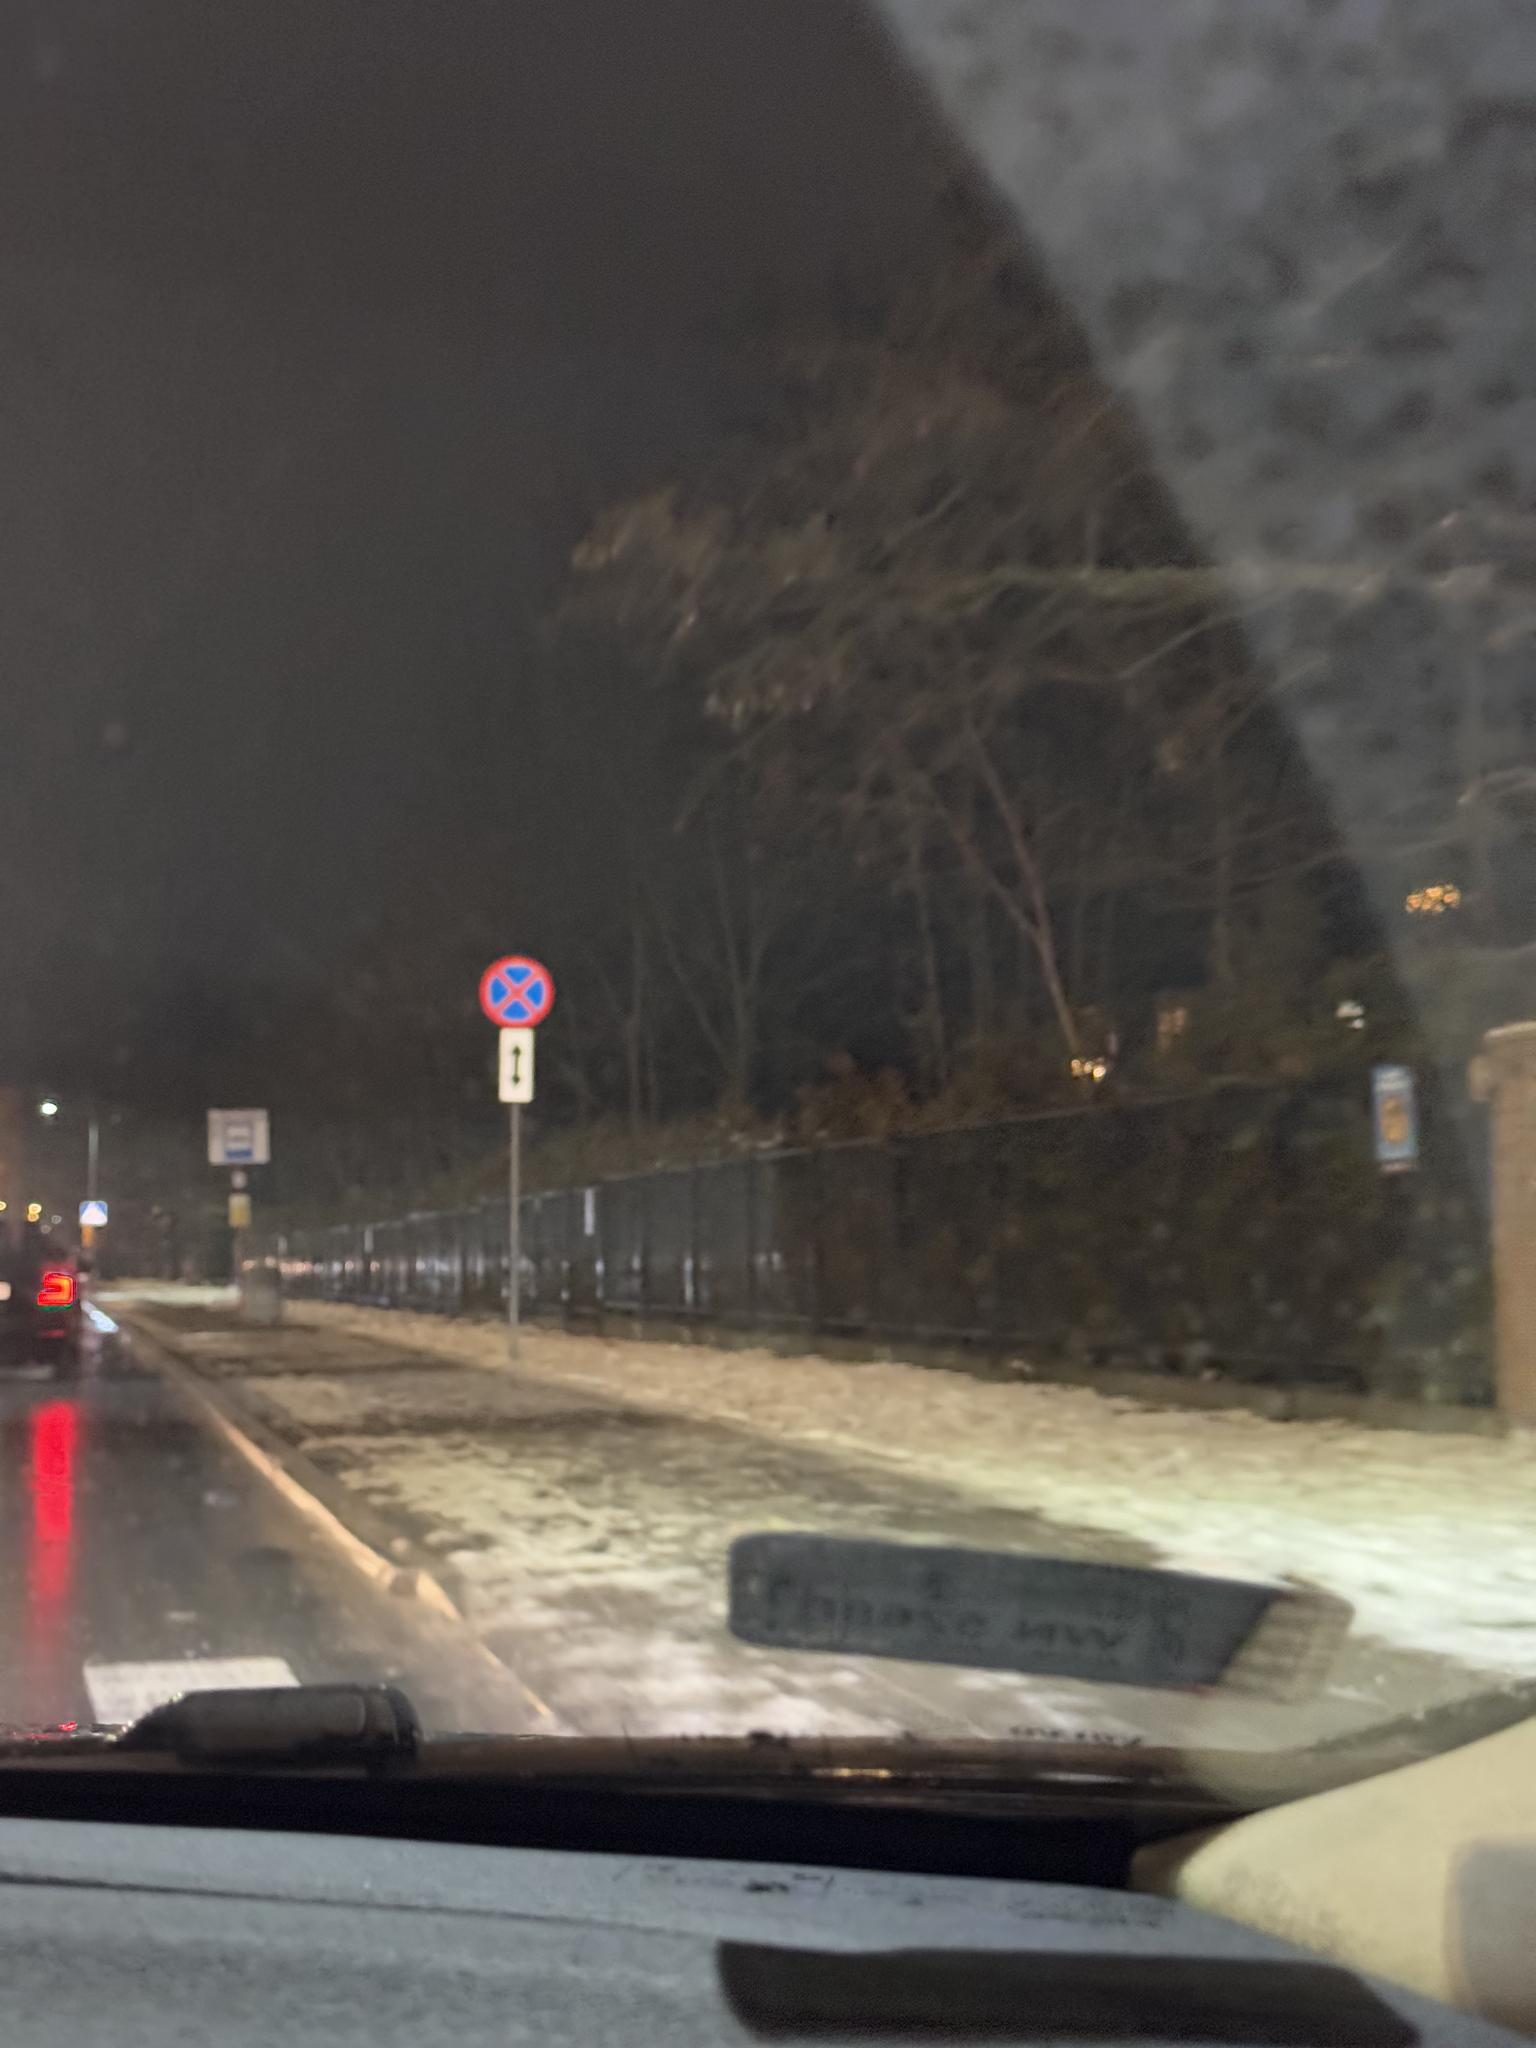information: (224, 1121, 252, 1158), (79, 1200, 106, 1226)
other: (499, 1027, 536, 1106)
prohibitory: (479, 956, 555, 1030)
